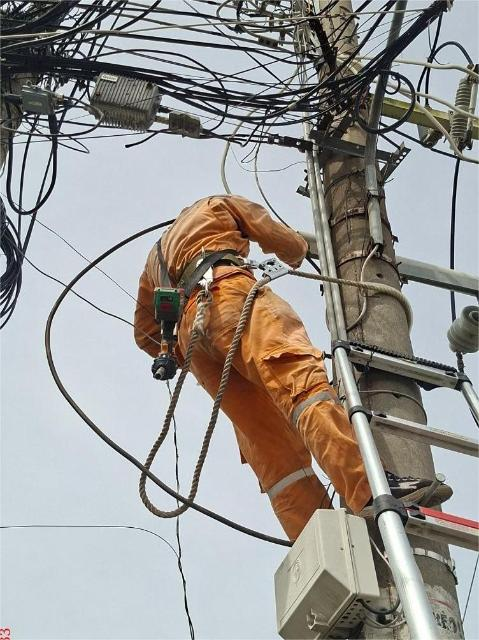harness: (142, 238, 293, 302)
shoes: (344, 458, 465, 518)
